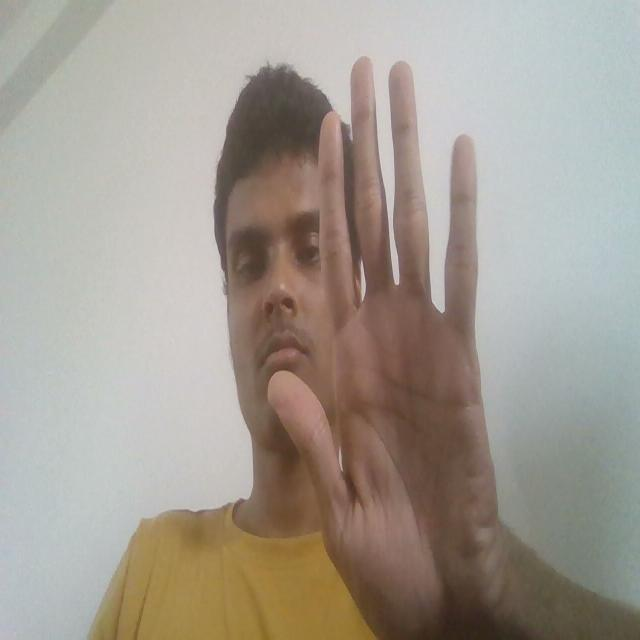Hello: (258, 47, 527, 640)
